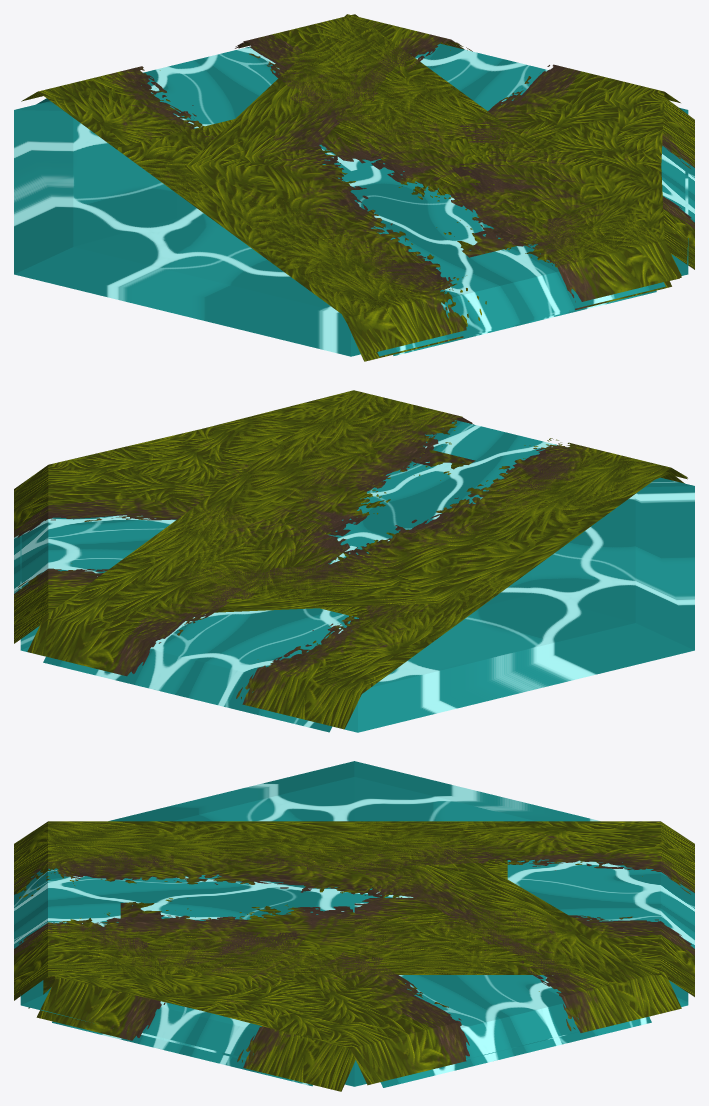
The model's file is RiverTile.fbx.
3 renders of one model, top to bottom at view 1: azimuth 30°, elevation 25°; view 2: azimuth 150°, elevation 25°; view 3: azimuth 270°, elevation 25°, orthographic.
Visible parts, largest first — view 1: River.Curve.Smooth.Grass, River.Straight.Grass, RiverChunk.Center, River.Straight.End.Grass, River.Straight.End.River, River.Straight.River, River.Curve.Smooth.River, River.Curve.Sharp.Grass, River.Curve.Sharp.River, RiverChunk.CornerEdge.B; view 2: River.Straight.Grass, River.Curve.Smooth.Grass, RiverChunk.Center, River.Straight.End.Grass, River.Straight.River, River.Straight.End.River, River.Curve.Smooth.River, RiverChunk.CornerEdge.B; view 3: River.Curve.Smooth.Grass, River.Straight.Grass, River.Straight.End.Grass, RiverChunk.Center, River.Straight.End.River, River.Curve.Smooth.River, River.Curve.Sharp.Grass, River.Straight.River, River.Curve.Sharp.River, RiverChunk.CornerEdge.B.
Part boxes in pixels (x1,y1,x2,y2): River.Curve.Smooth.Grass: [185, 14, 681, 354]; River.Straight.Grass: [21, 14, 681, 353]; RiverChunk.Center: [14, 101, 688, 356]; River.Straight.End.Grass: [115, 71, 681, 354]; River.Straight.End.River: [319, 144, 657, 353]; River.Straight.River: [36, 46, 665, 356]; River.Curve.Smooth.River: [397, 43, 659, 353]; River.Curve.Sharp.Grass: [342, 97, 694, 361]; River.Curve.Sharp.River: [393, 145, 694, 355]; RiverChunk.CornerEdge.B: [457, 230, 522, 257]; River.Straight.Grass: [27, 390, 687, 729]; River.Curve.Smooth.Grass: [14, 390, 687, 643]; RiverChunk.Center: [20, 477, 694, 732]; River.Straight.End.Grass: [151, 391, 687, 636]; River.Straight.River: [43, 608, 358, 732]; River.Straight.End.River: [328, 420, 559, 564]; River.Curve.Smooth.River: [14, 515, 176, 593]; RiverChunk.CornerEdge.B: [411, 449, 475, 469]; River.Curve.Smooth.Grass: [14, 821, 681, 1085]; River.Straight.Grass: [14, 821, 694, 996]; River.Straight.End.Grass: [14, 821, 507, 997]; RiverChunk.Center: [20, 761, 688, 1086]; River.Straight.End.River: [14, 868, 413, 948]; River.Curve.Smooth.River: [380, 975, 651, 1087]; River.Curve.Sharp.Grass: [14, 975, 355, 1091]; River.Straight.River: [507, 859, 694, 948]; River.Curve.Sharp.River: [52, 1001, 312, 1086]; RiverChunk.CornerEdge.B: [120, 902, 161, 921].
Size of the model in its own units: 10.83 by 0.5007 by 9.56.
